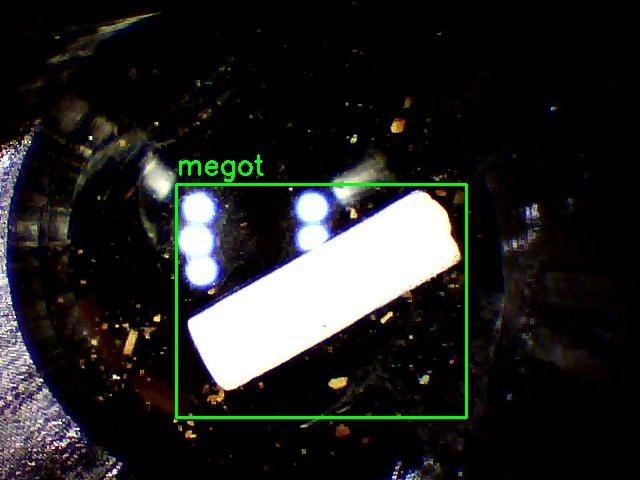megot: (176, 184, 466, 417)
